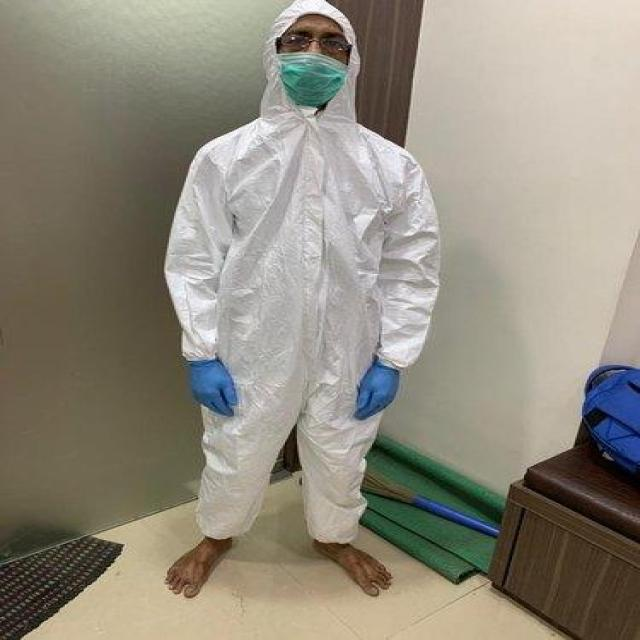Coverall: (70, 0, 468, 603)
Gloves: (171, 337, 270, 435), (323, 346, 422, 442)
Mask: (254, 47, 362, 136)
